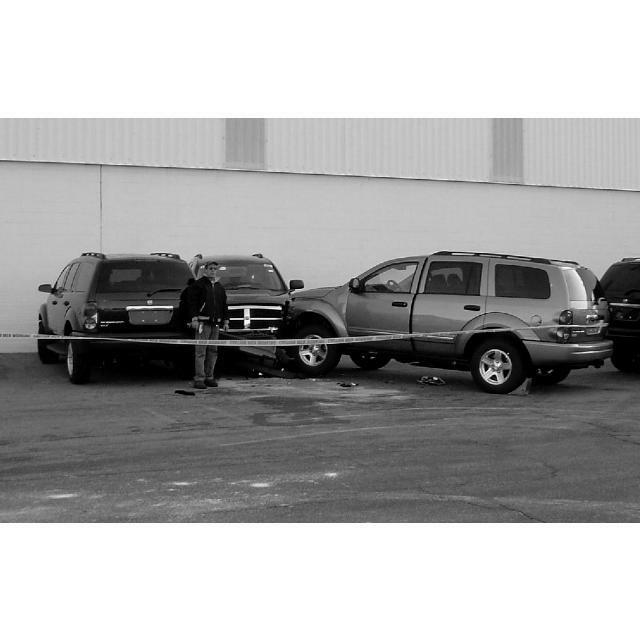front-bumper-dent: (211, 321, 300, 356)
quaterpanel-dent: (515, 303, 568, 350)
